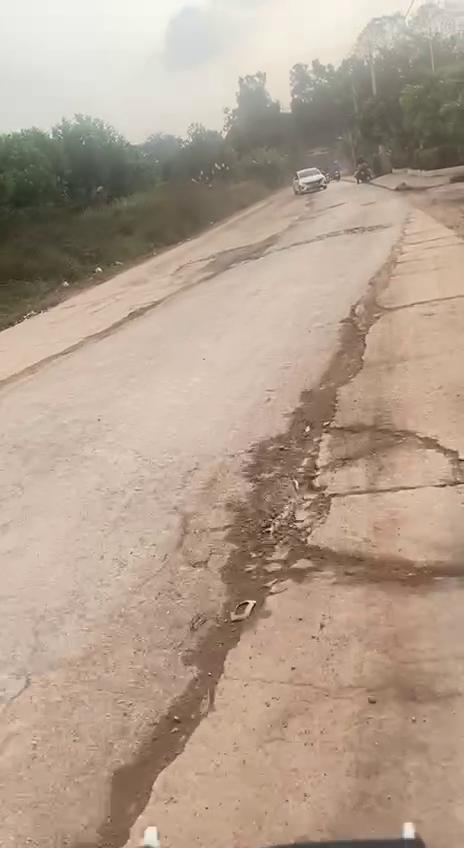pothole: (229, 404, 464, 598)
